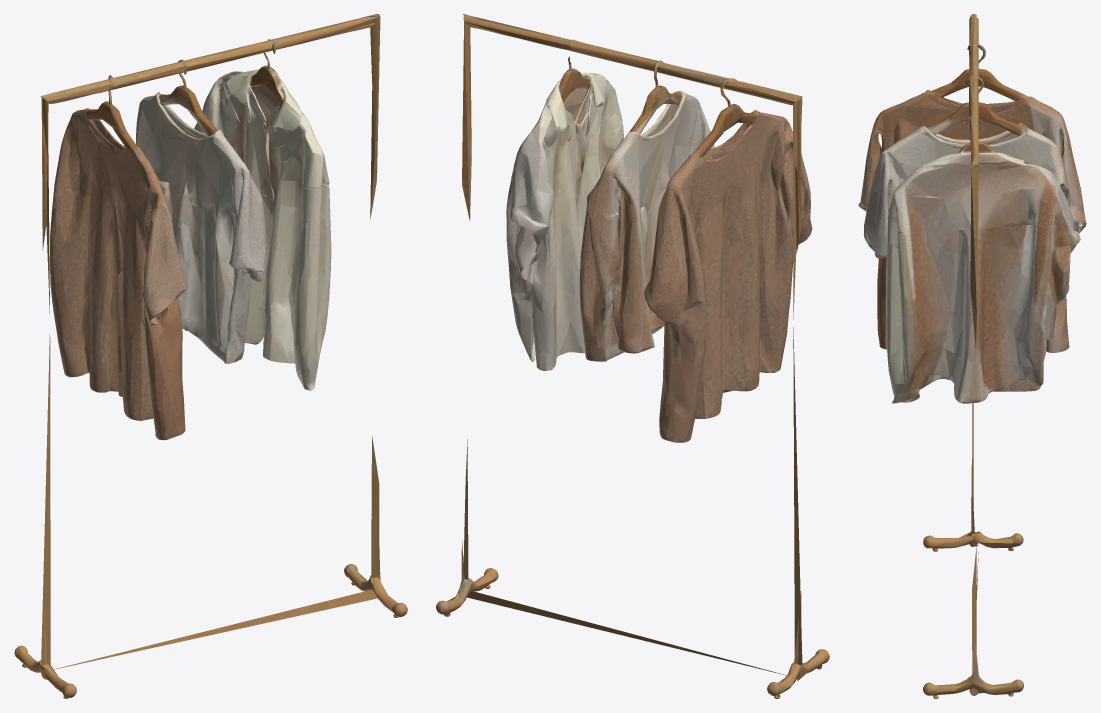
Rendered from clothing-rail-brass-draped.glb.
The picture shows the model from 3 angles, left to right: view 1: azimuth 30°, elevation 25°; view 2: azimuth 150°, elevation 25°; view 3: azimuth 270°, elevation 25°; orthographic projection. The views are drawn at different scales.
Visible parts, largest first — view 1: mesh_node; view 2: mesh_node; view 3: mesh_node.
Part boxes in pixels (x1,y1,x2,y2): mesh_node: (14,14,407,698); mesh_node: (436,14,829,698); mesh_node: (858,14,1086,698).
Bounding box in the file's own units: 1.16 × 1.9 × 0.7321.
Materials: 1 (1 with a texture image).
